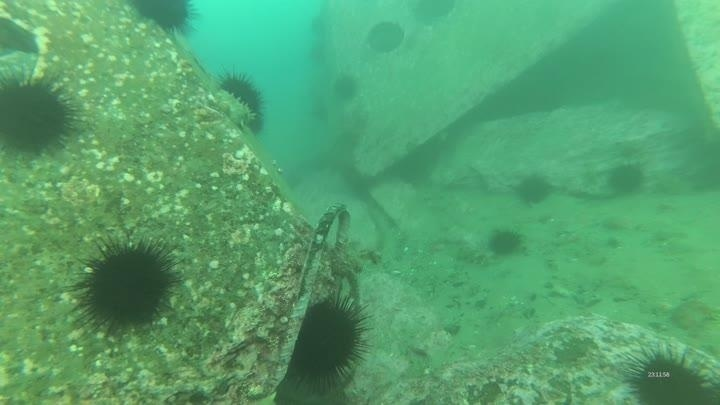echinus: (72, 235, 180, 334), (287, 290, 373, 392), (1, 69, 79, 158), (622, 343, 715, 403), (127, 1, 200, 37), (215, 68, 265, 114), (605, 160, 647, 198), (513, 171, 554, 208), (486, 226, 525, 260), (330, 72, 361, 104), (301, 11, 332, 43), (242, 111, 267, 135), (311, 1, 333, 18)
holothurian: (208, 89, 257, 125)
